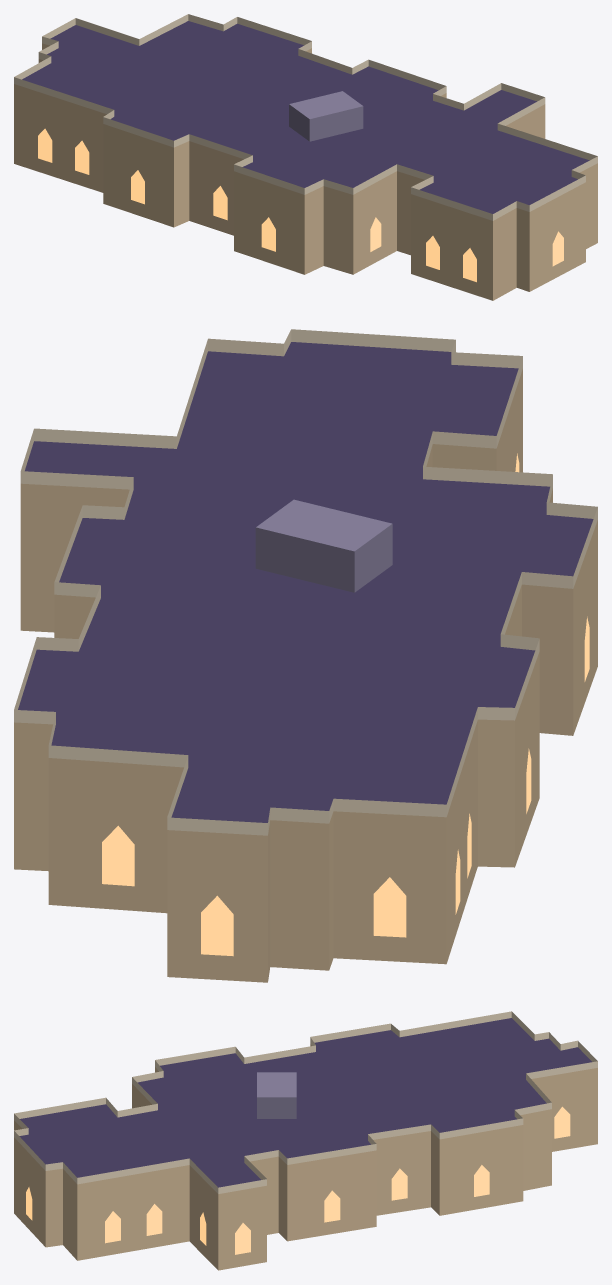
The model's file is b-018-south-hall.glb.
3 renders of one model, top to bottom at view 1: azimuth 30°, elevation 25°; view 2: azimuth 150°, elevation 25°; view 3: azimuth 270°, elevation 25°, orthographic. The views are drawn at different scales.
Visible parts, largest first — view 1: campus/b-018-south-hall-0; view 2: campus/b-018-south-hall-0; view 3: campus/b-018-south-hall-0.
Part boxes in pixels (left/top/right/bottom): campus/b-018-south-hall-0: left=14, top=14, right=597, bottom=300; campus/b-018-south-hall-0: left=14, top=329, right=597, bottom=982; campus/b-018-south-hall-0: left=14, top=1011, right=597, bottom=1270.
Bounding box in the file's own units: 31.66 × 8.2 × 44.33.
